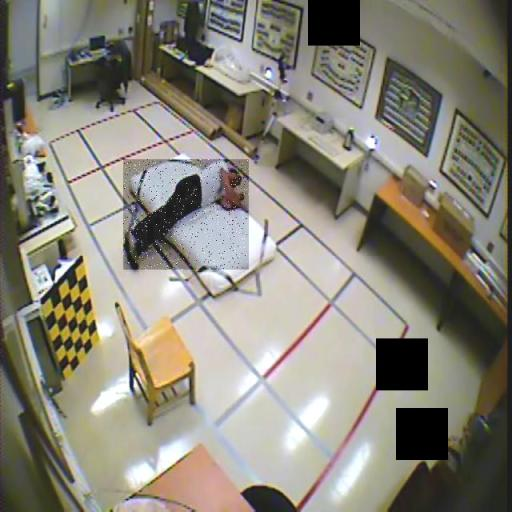Fall: (123, 159, 249, 270)
